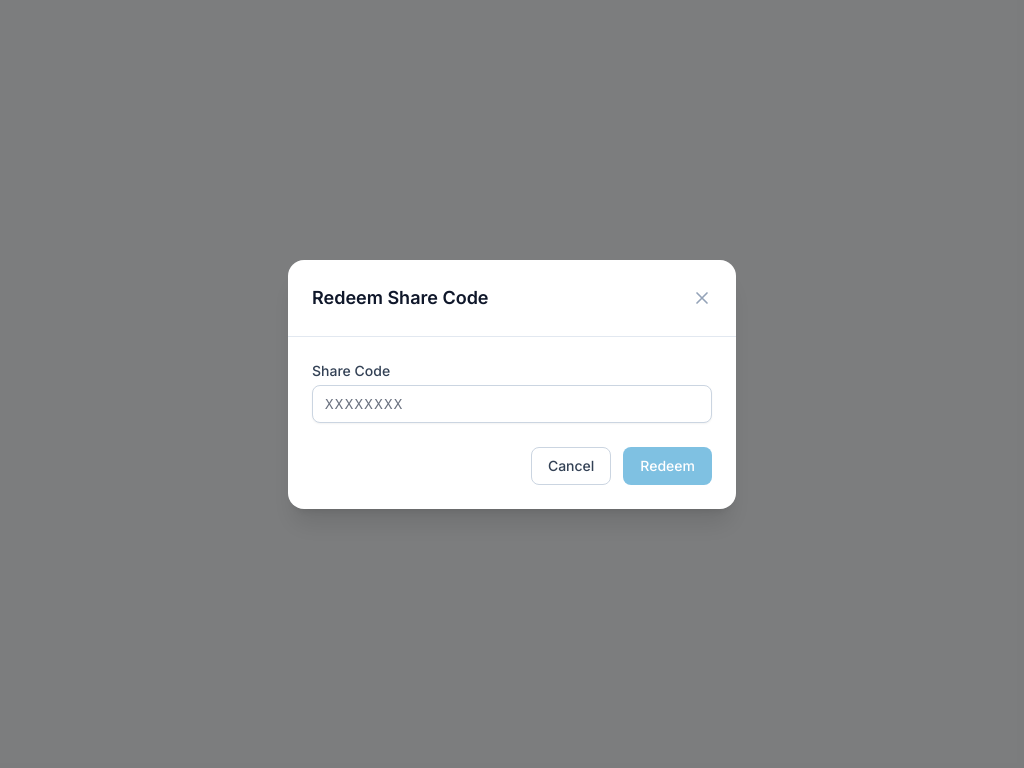
Scenario: RedeemCodeModal › successful redemption › shows 0 items when playlist has no items
Type "EMPTY000" into the field with id "share-code" at (512, 404), box [312, 384, 712, 422]
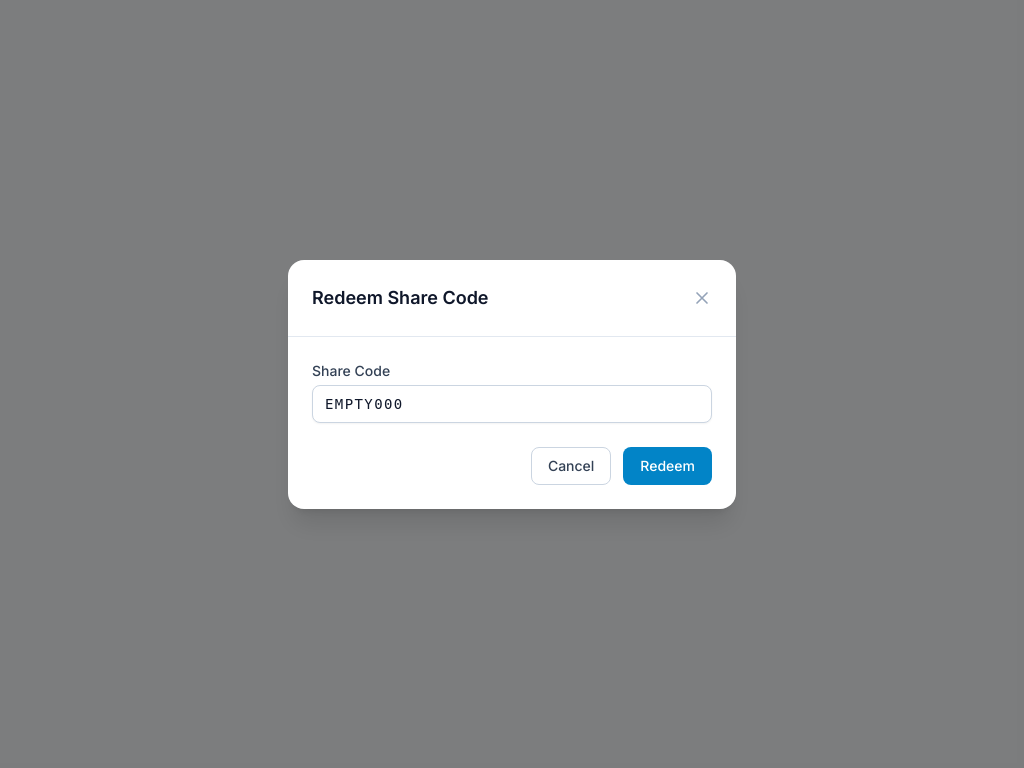
Submit the form, box [288, 336, 736, 508]
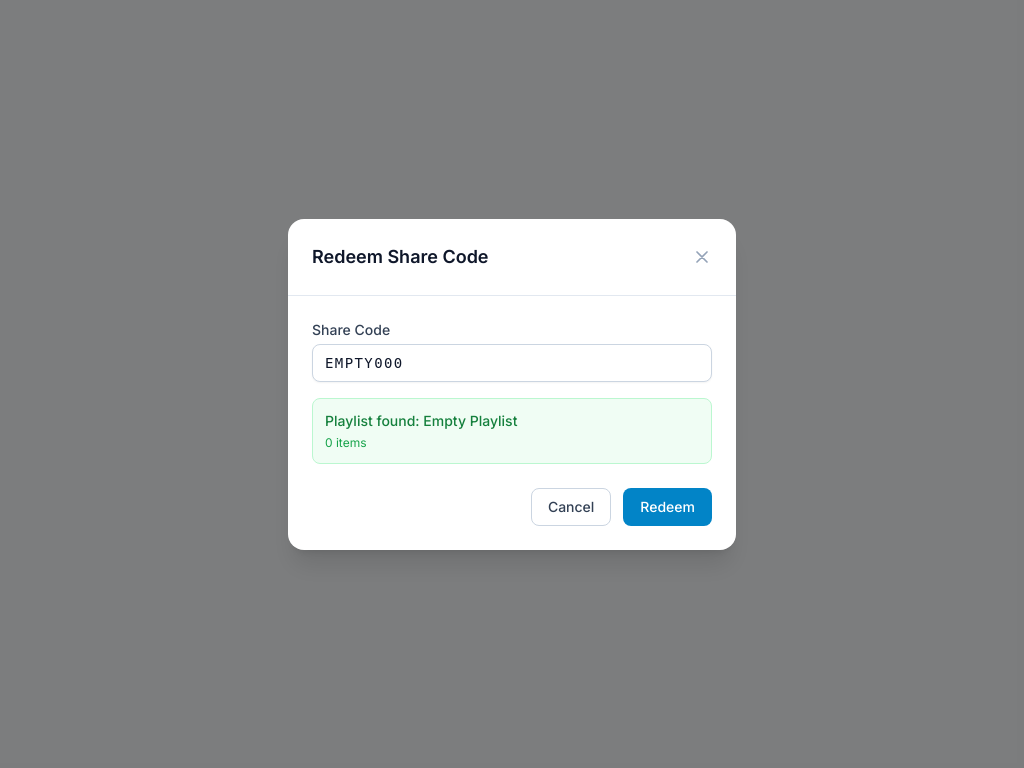
Result: the text "0 items" is shown at [325, 434, 366, 450]
